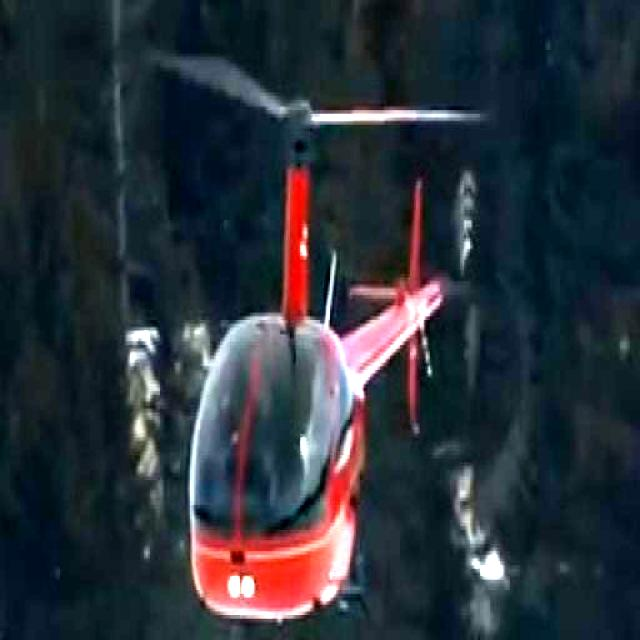drone: (169, 39, 484, 640)
